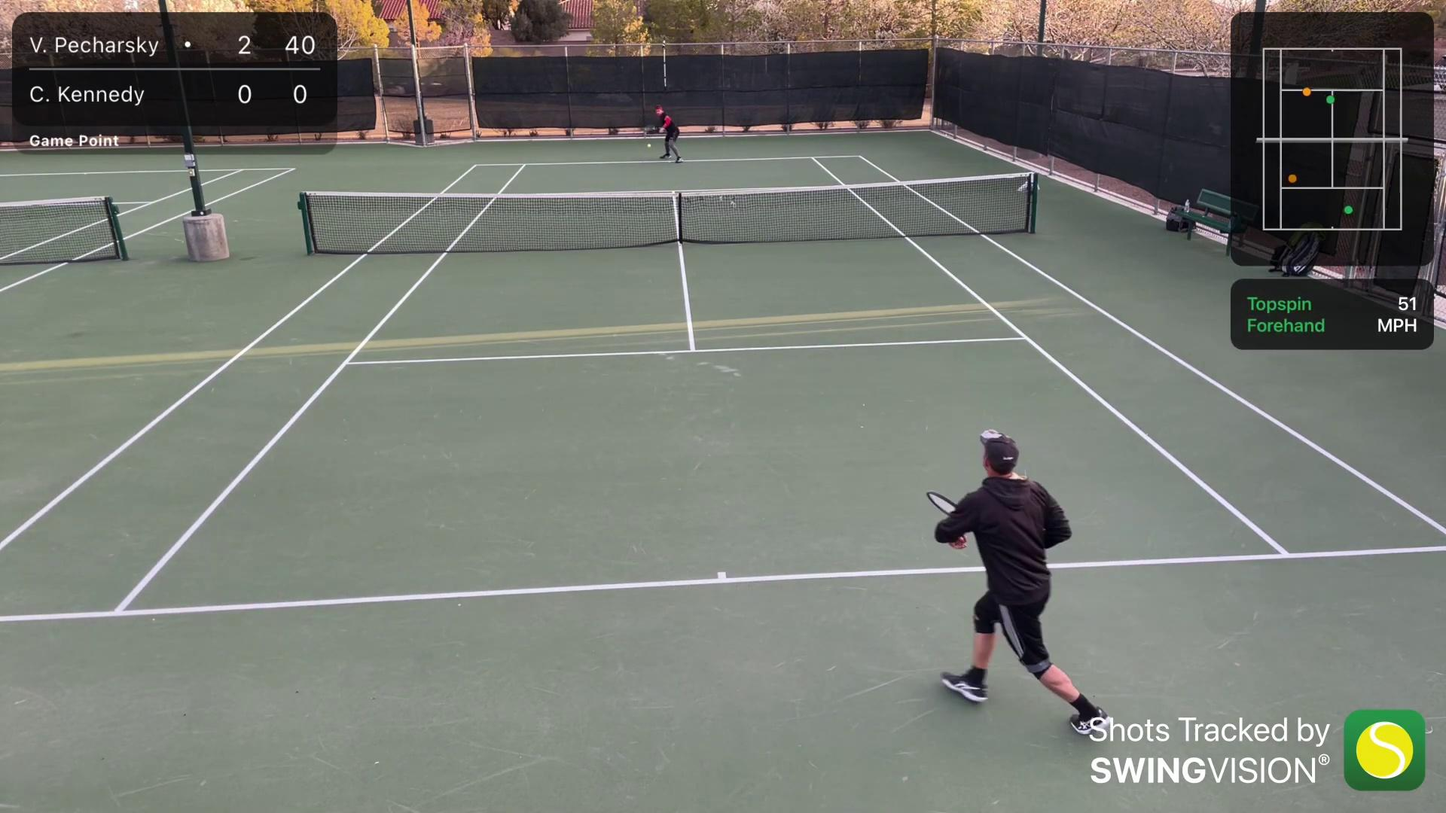ball: (646, 142, 653, 149)
